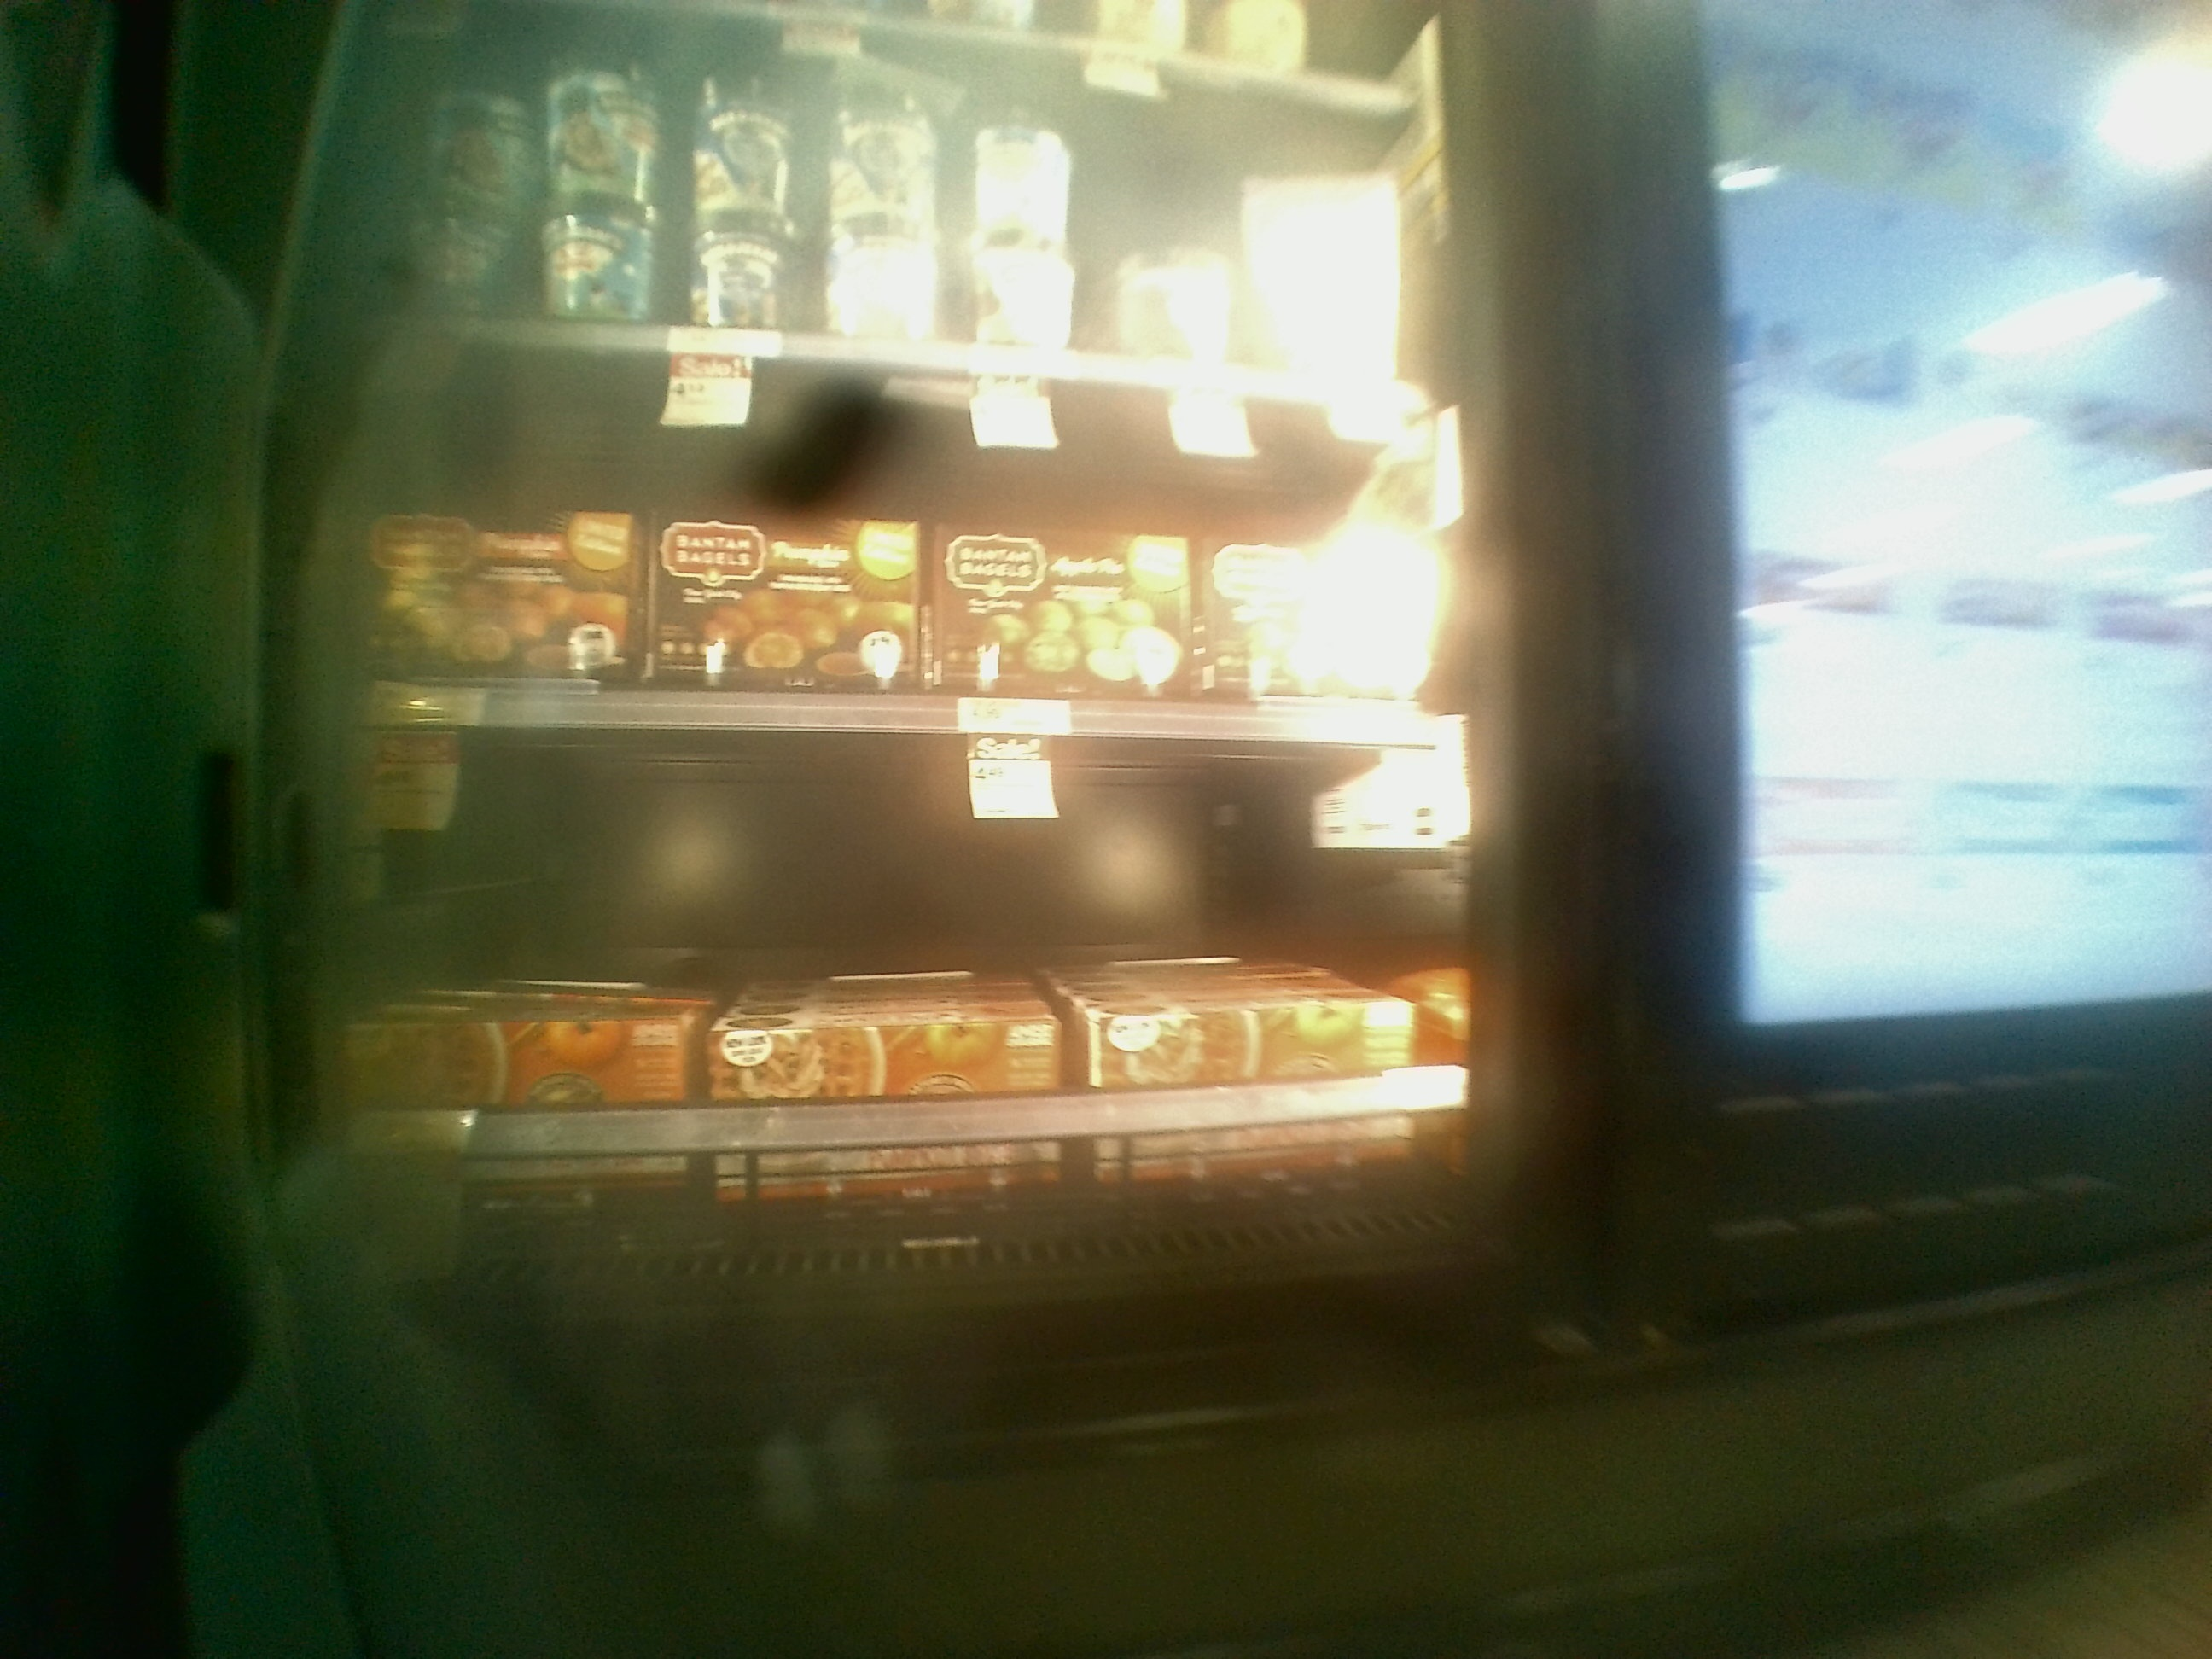shelf: (322, 723, 1508, 1319), (327, 326, 1479, 746)
